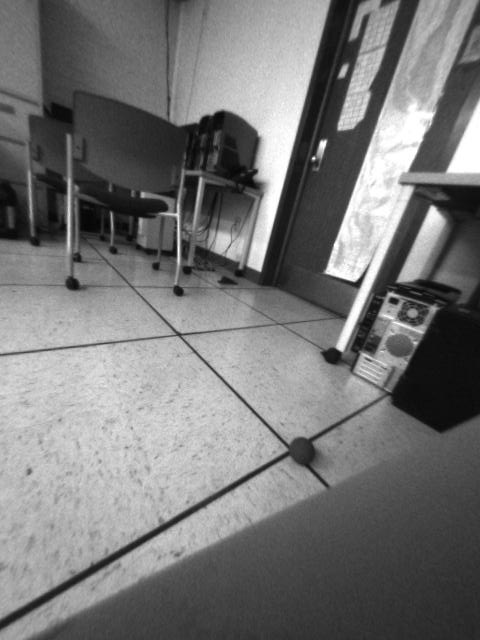dogtoy: (280, 424, 324, 467)
